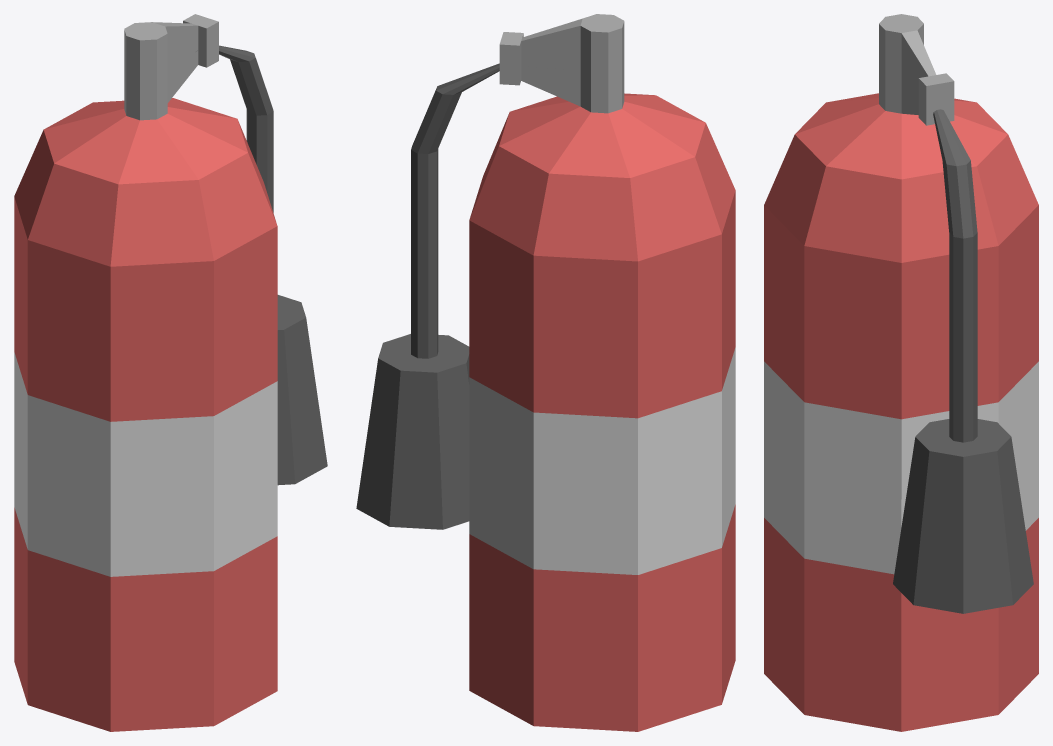
File: firefiter.fbx
3 renders of one model, left to right at view 1: azimuth 30°, elevation 25°; view 2: azimuth 150°, elevation 25°; view 3: azimuth 270°, elevation 25°, orthographic.
Parts seen in each view (by area): view 1: Cylinder; view 2: Cylinder; view 3: Cylinder.
Part boxes in pixels (left/top/right/bottom): Cylinder: left=14, top=14, right=327, bottom=731; Cylinder: left=356, top=14, right=735, bottom=731; Cylinder: left=764, top=14, right=1038, bottom=731.
Size of the model in its own units: 130 by 248 by 94.93.
